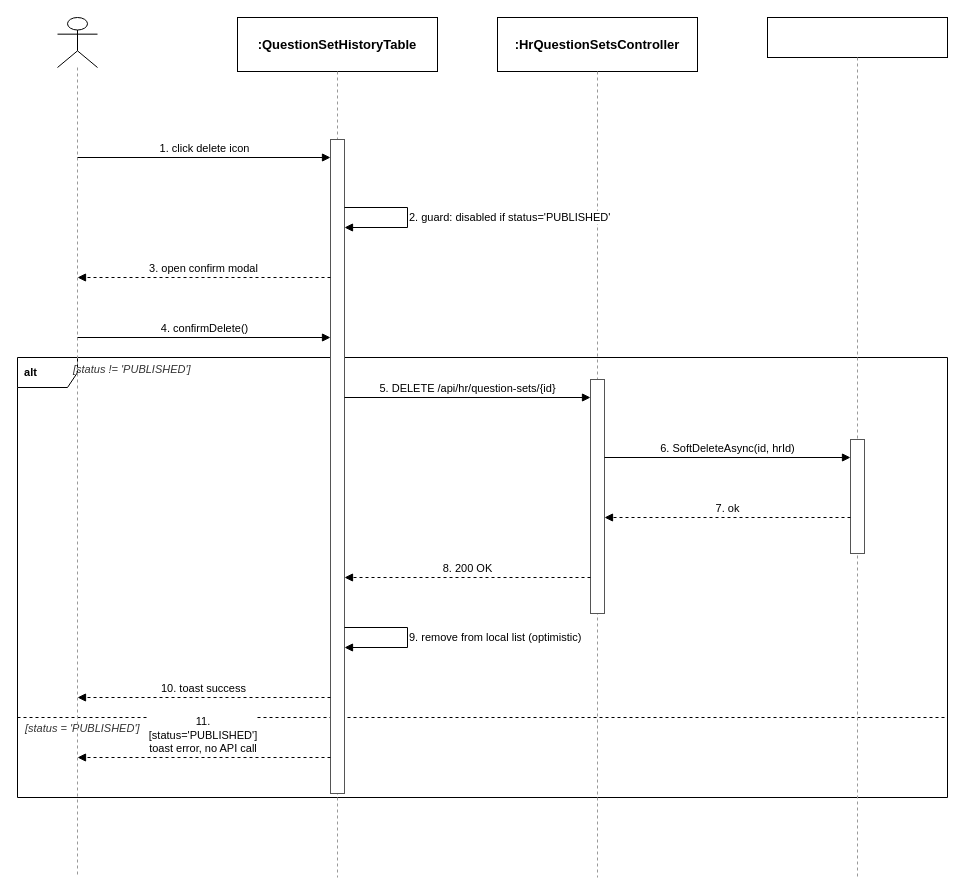
This 966x896 diagram has some shape labels left out. Here are the shapes that lost their labels. From the top down, the centre of each, then its label:
[77,42]: HR Manager
[857,37]: :QuestionSetService
